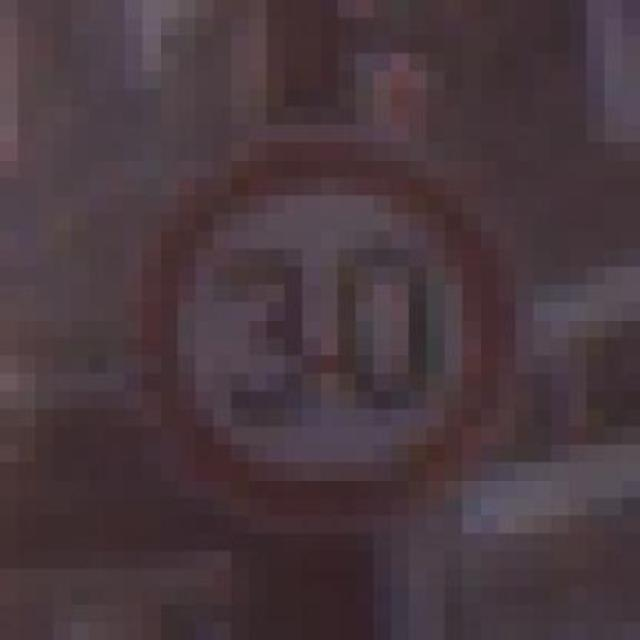Speed Limit 30 KMPh: (106, 106, 569, 534)
